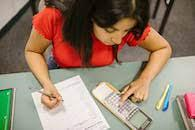good: (18, 1, 174, 130)
